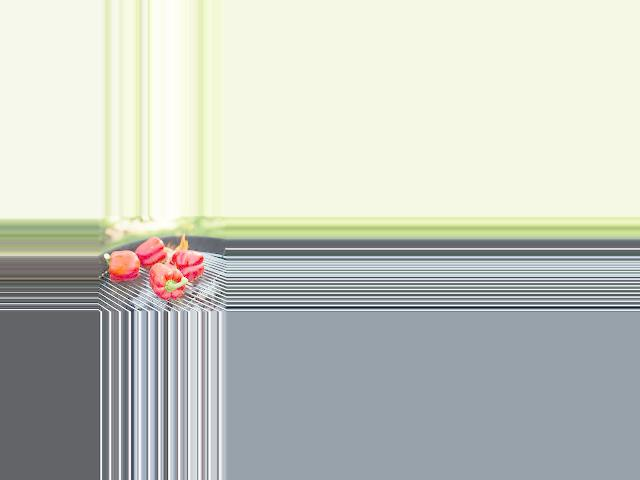bell_pepper: (169, 248, 205, 279)
